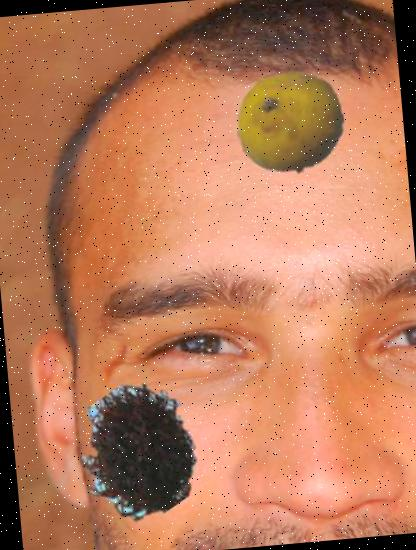Lemon: (232, 64, 350, 182)
Rambutan: (68, 381, 209, 522)
